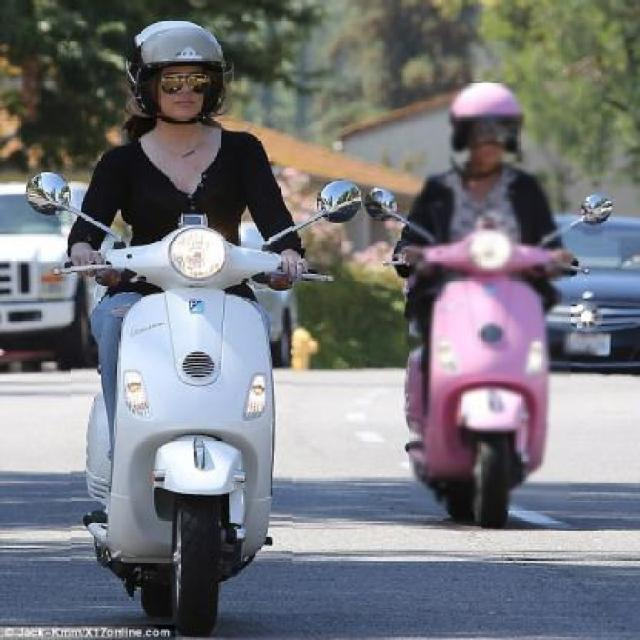helmet: (116, 15, 243, 150), (432, 67, 536, 202)
motorcycle: (17, 17, 361, 640), (368, 76, 612, 534)
